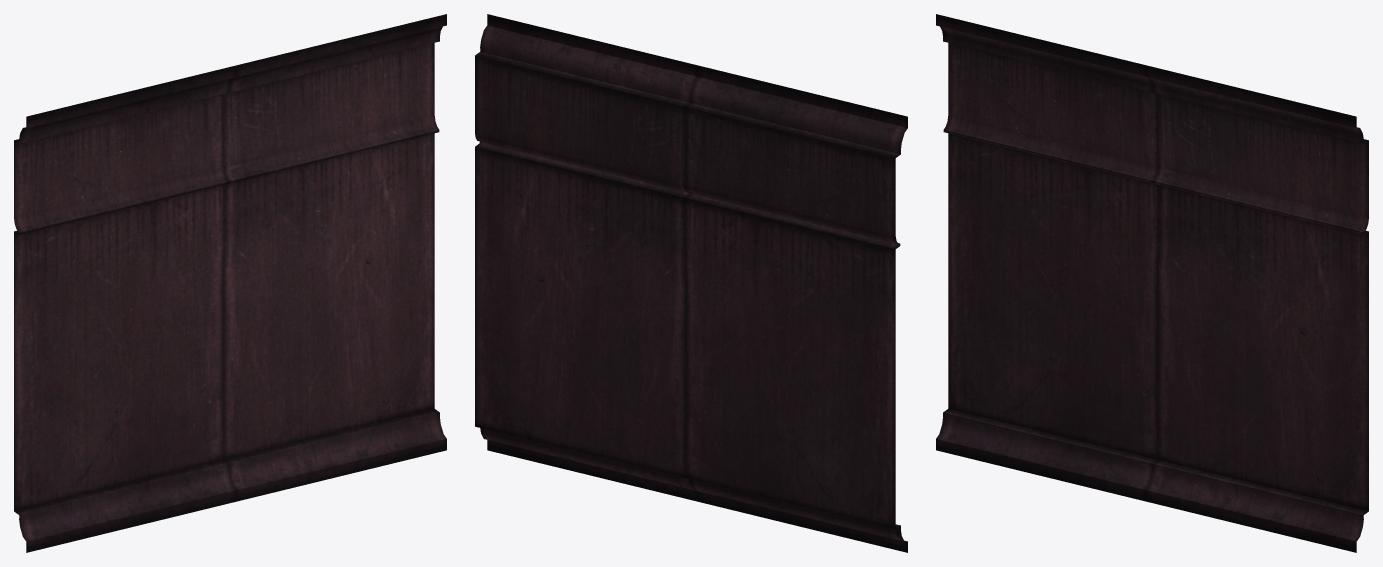
File: 42_default_extension.dae
3 views of the same model, side by side, from view 1: azimuth 30°, elevation 25°; view 2: azimuth 150°, elevation 25°; view 3: azimuth 330°, elevation 25° (orthographic).
Parts seen in each view (by area): view 1: mansionbase_wall_extension; view 2: mansionbase_wall_extension; view 3: mansionbase_wall_extension.
Boxes of the visible parts, x1,y1,x2,y2 form: mansionbase_wall_extension: [14, 14, 446, 552]; mansionbase_wall_extension: [475, 14, 907, 552]; mansionbase_wall_extension: [936, 14, 1368, 552].
Size of the model in its own units: 4 by 3.96 by 0.2011.
1 material, 1 textured.
